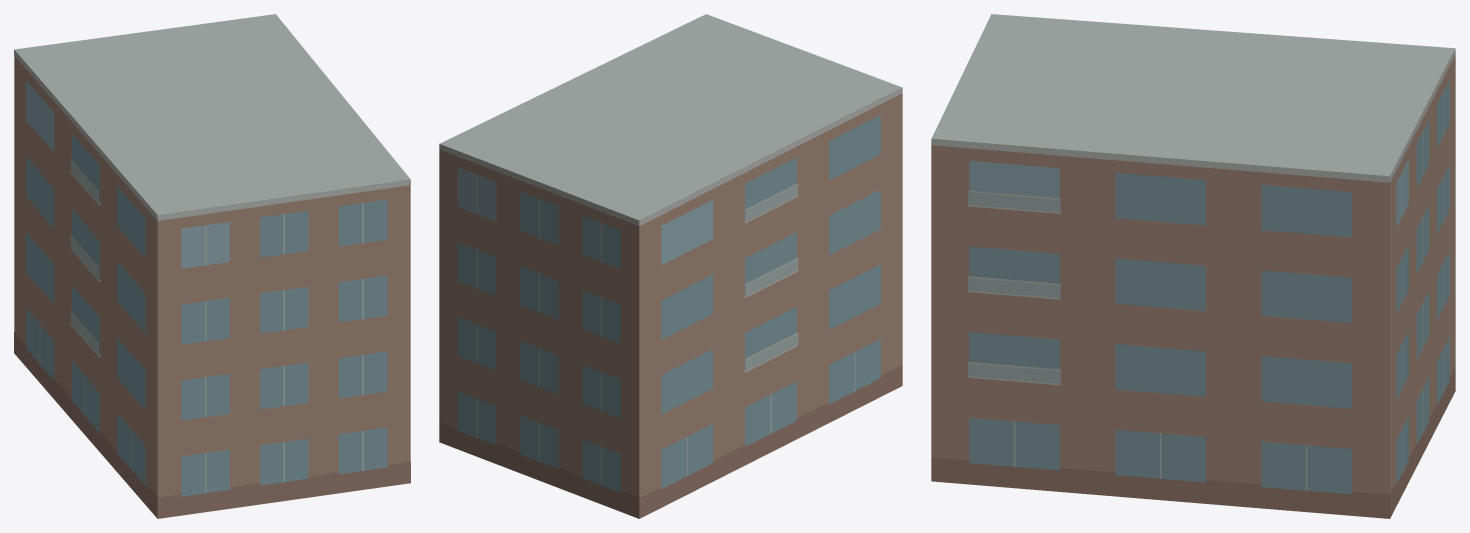
File: survey-upis-32933367.glb
3 renders of one model, left to right at view 1: azimuth 30°, elevation 25°; view 2: azimuth 150°, elevation 25°; view 3: azimuth 270°, elevation 25°, orthographic. The views are drawn at different scales.
Parts seen in each view (by area): view 1: survey-upis-32933367.tmp; view 2: survey-upis-32933367.tmp; view 3: survey-upis-32933367.tmp.
Part boxes in pixels (left/top/right/bottom): survey-upis-32933367.tmp: left=14, top=14, right=410, bottom=518; survey-upis-32933367.tmp: left=439, top=14, right=902, bottom=518; survey-upis-32933367.tmp: left=931, top=14, right=1455, bottom=518.
Size of the model in its own units: 13.01 by 12.8 by 17.76.
